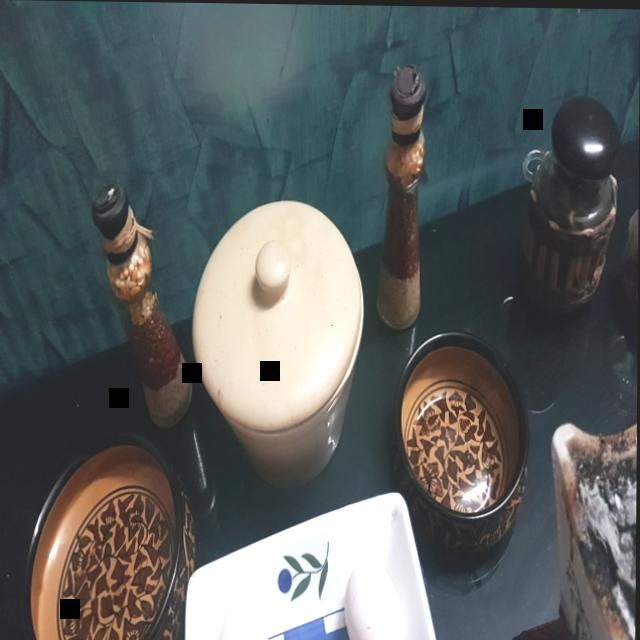eggs: (339, 557, 408, 640), (211, 594, 271, 640)
